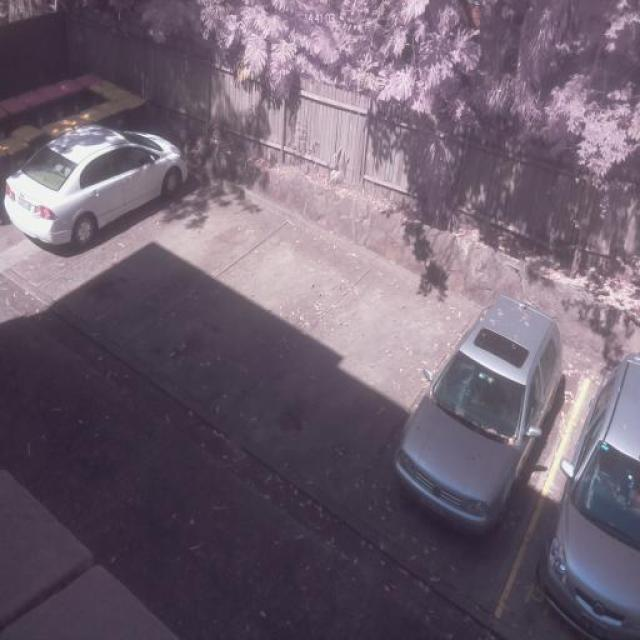Legalparking: (379, 271, 640, 640), (2, 84, 246, 295)
